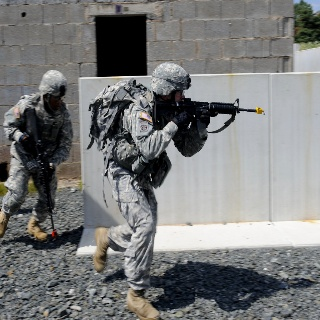rifle: (23, 107, 63, 238), (153, 96, 265, 135)
